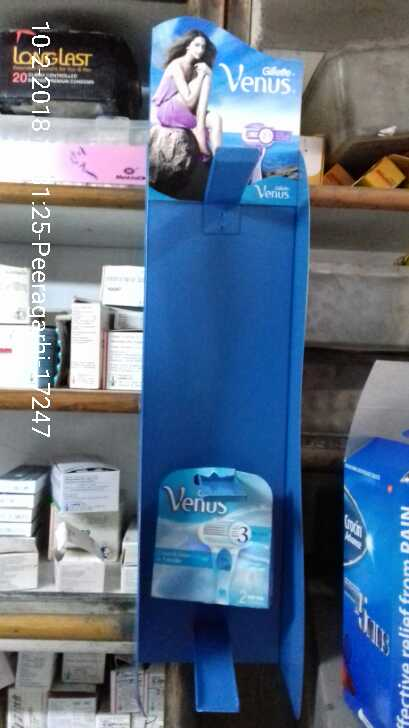venus: (156, 462, 271, 604)
